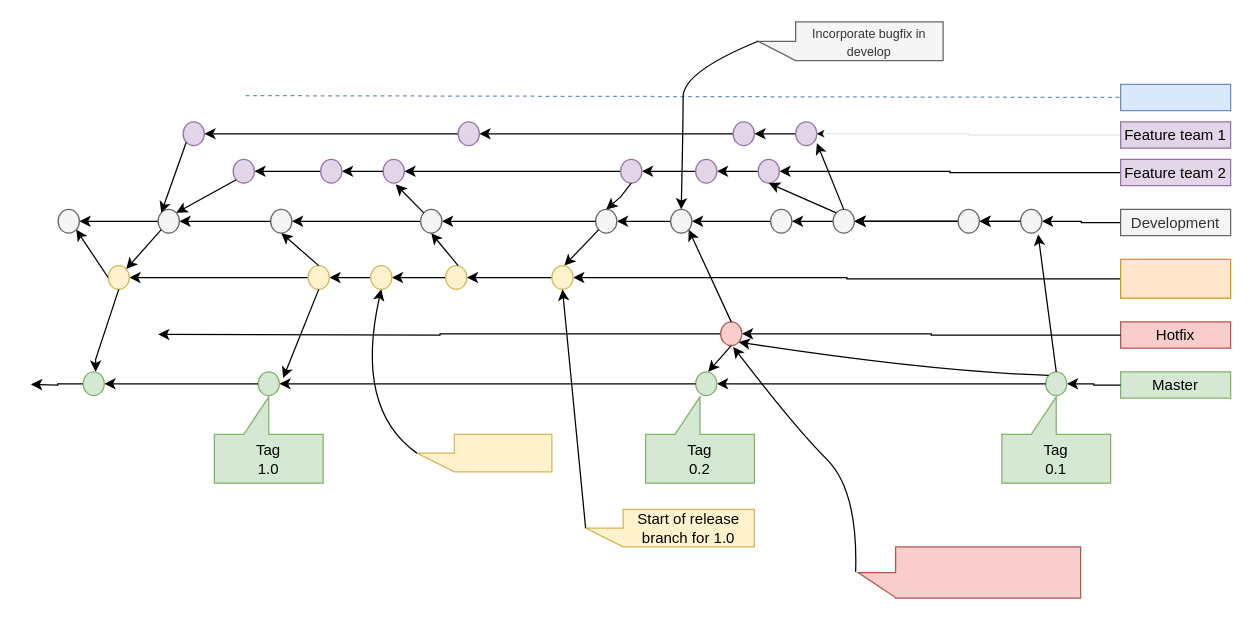
Image size: 1253x620. Some labels were removed from this diagram. Each missing label, with the centre of its shape:
Only Bugs: (x=484, y=452)
Release Branches: (x=1175, y=278)
Severe bug fixed for production hotfix 0.2: (x=969, y=572)
Time: (x=1175, y=97)
